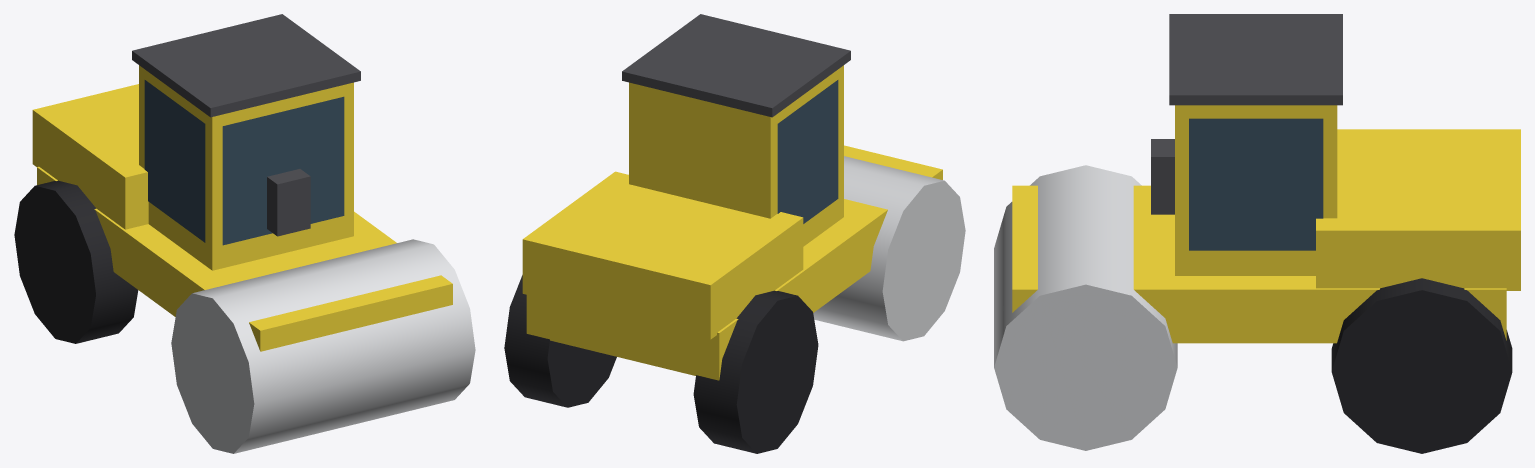
Rendered from construction_roller.fbx.
3 views of the same model, side by side, from view 1: azimuth 30°, elevation 25°; view 2: azimuth 150°, elevation 25°; view 3: azimuth 270°, elevation 25° (orthographic). The views are drawn at different scales.
Parts seen in each view (by area): view 1: construction_roller; view 2: construction_roller; view 3: construction_roller.
Boxes of the visible parts, x1,y1,x2,y2 form: construction_roller: [14, 14, 475, 453]; construction_roller: [504, 14, 965, 453]; construction_roller: [994, 14, 1520, 453].
Bounding box in the file's own units: 2.1 × 2.63 × 3.73.
